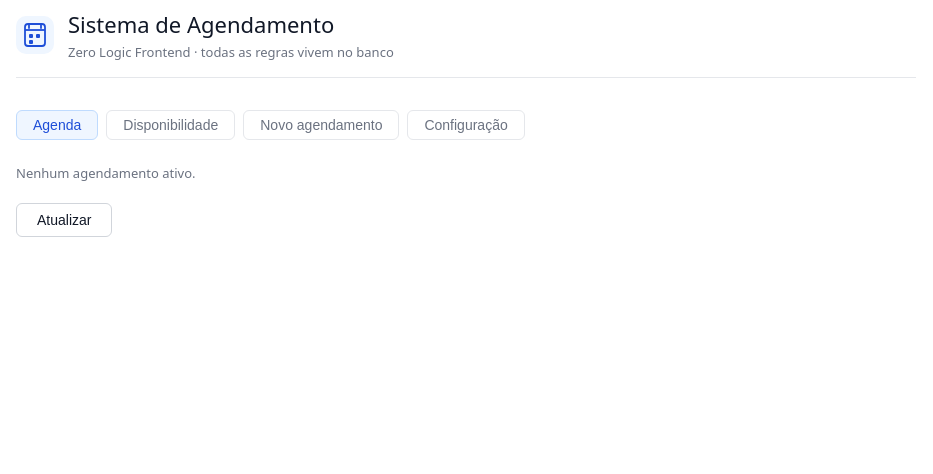
Test case: Novo agendamento › renderiza labels do formulário
Click the button "Novo agendamento" at (321, 125), box [243,110,399,140]
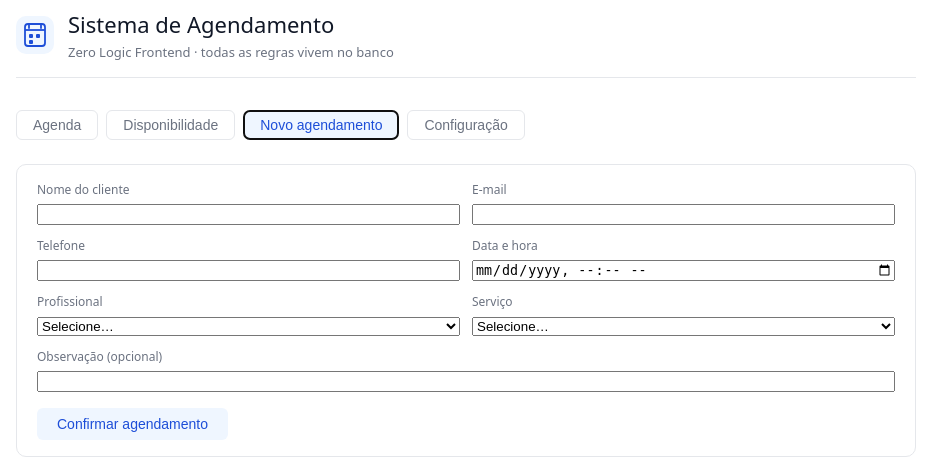
Expected: the text "Nome do cliente" is shown, [37,181,130,198]
Expected: the text "E-mail" is shown, [472,181,507,198]
Expected: the text "Telefone" is shown, [37,237,85,254]
